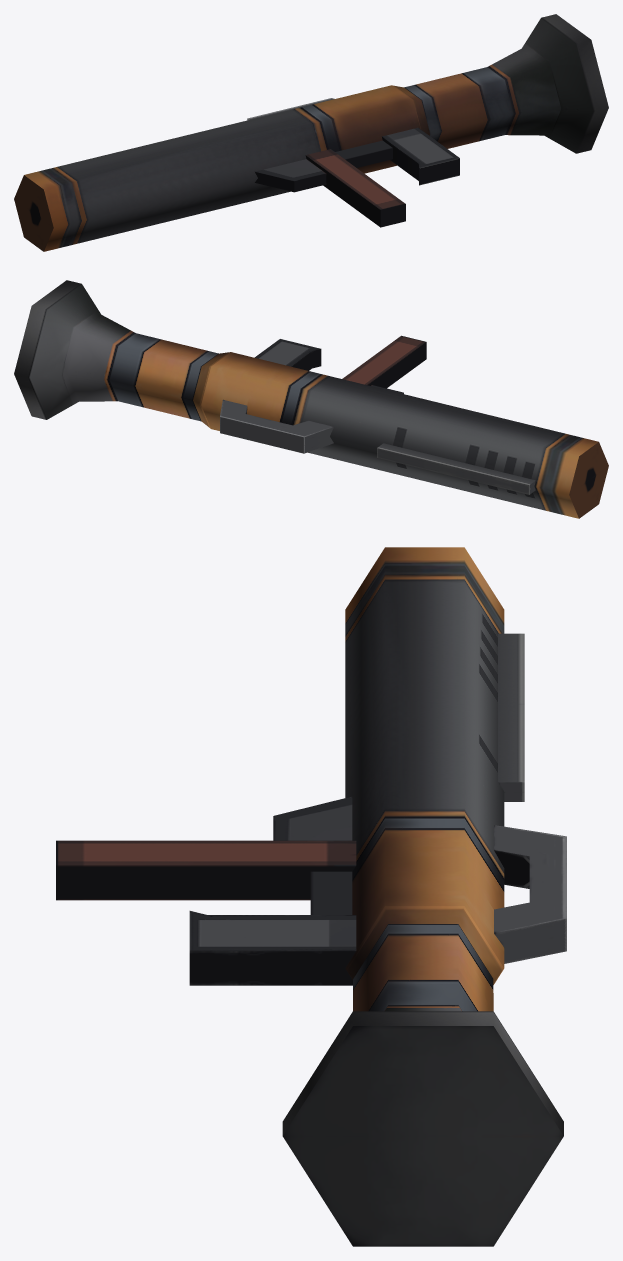
The model's file is weapon_rpg.FBX.
The picture shows the model from 3 angles, top to bottom: view 1: azimuth 30°, elevation 25°; view 2: azimuth 150°, elevation 25°; view 3: azimuth 270°, elevation 25°; orthographic projection. The views are drawn at different scales.
Parts seen in each view (by area): view 1: weapon_rpg; view 2: weapon_rpg; view 3: weapon_rpg.
Boxes of the visible parts, x1=… form: weapon_rpg: x1=14, y1=14, x2=608, y2=251; weapon_rpg: x1=14, y1=280, x2=608, y2=518; weapon_rpg: x1=56, y1=547, x2=566, y2=1246.
Size of the model in its own units: 67.85 by 13.26 by 27.82.
